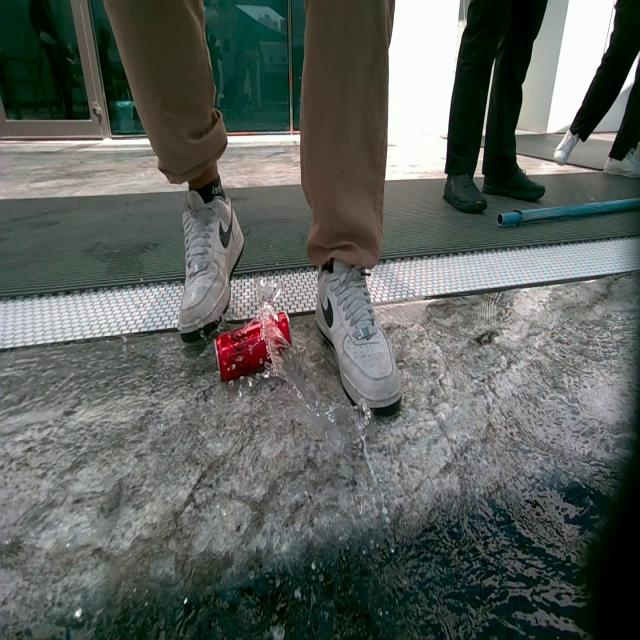Cans: (213, 319, 291, 385)
